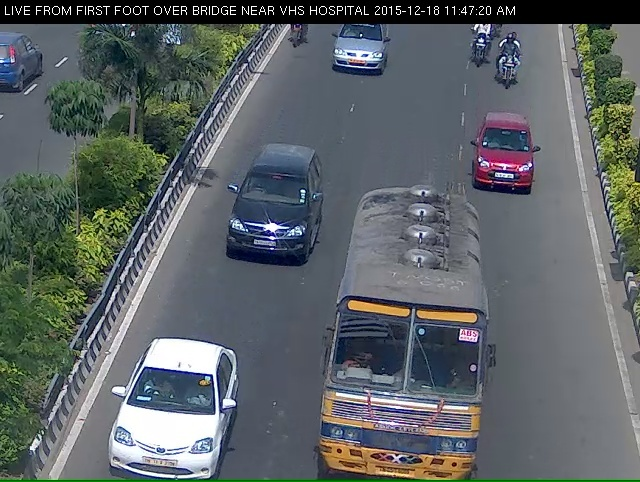Bus: (330, 202, 496, 482)
Car: (91, 369, 228, 481), (220, 168, 322, 296), (469, 115, 544, 212), (327, 25, 383, 86)
Person: (494, 39, 523, 96), (467, 25, 492, 74), (276, 24, 309, 60)
